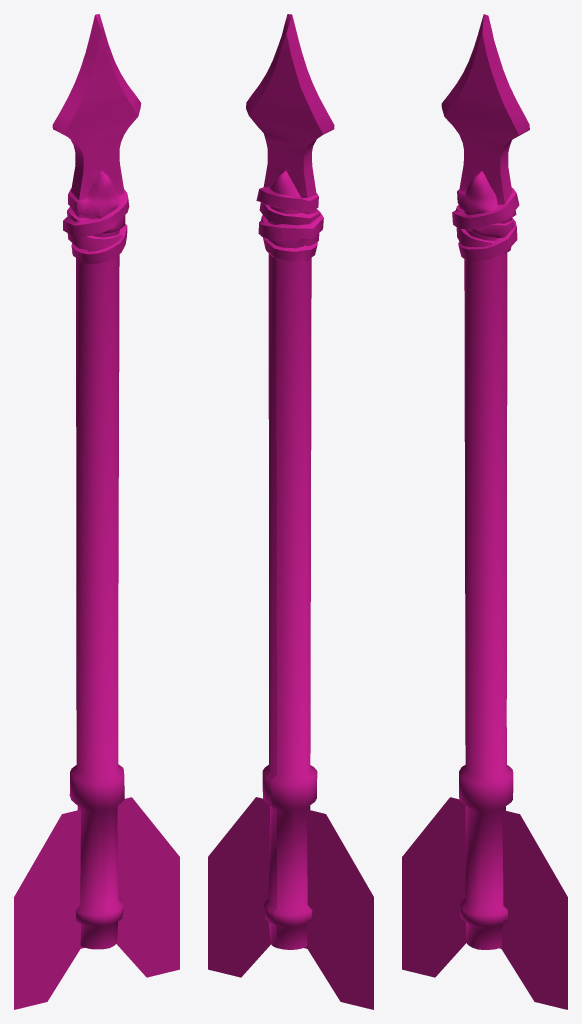
Rendered from SM_Rune_Arrow_2.obj.
The picture shows the model from 3 angles, left to right: view 1: azimuth 30°, elevation 25°; view 2: azimuth 150°, elevation 25°; view 3: azimuth 330°, elevation 25°; orthographic projection.
Bounding box in the file's own units: 66.72 × 376 × 19.25.
